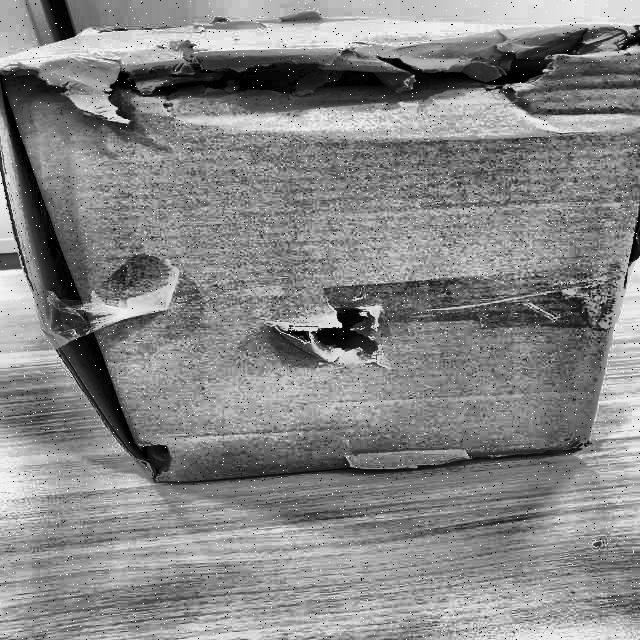box: (0, 45, 640, 488)
hole: (149, 30, 600, 98), (277, 302, 382, 360)
